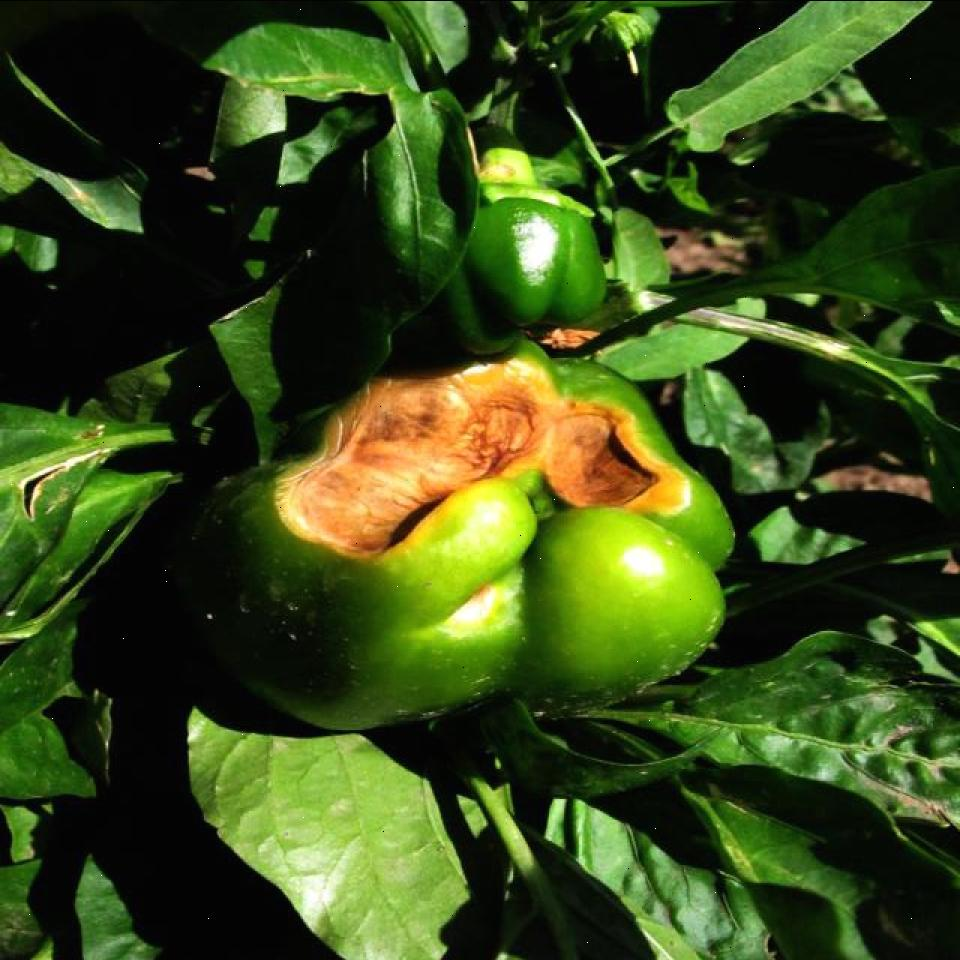Sunscald: (376, 244, 626, 670)
